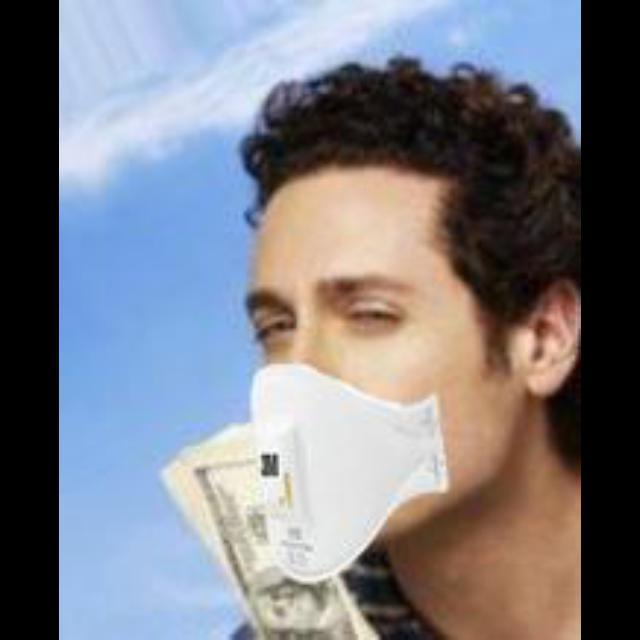suspicion: (216, 109, 536, 552)
